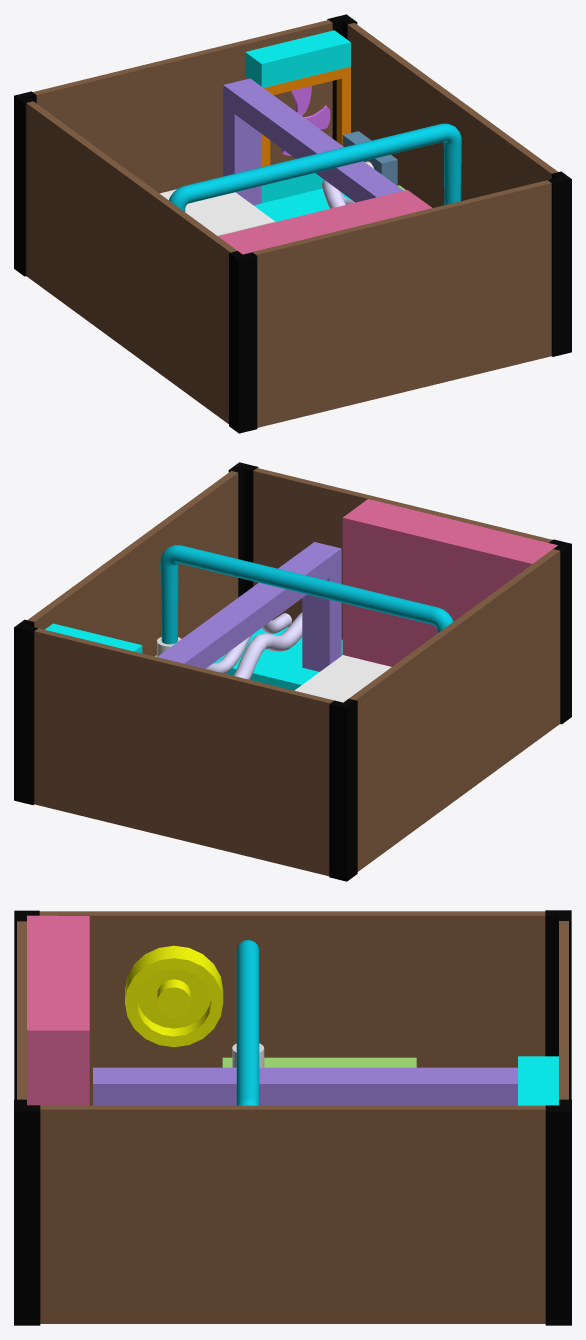
The model's file is hollystudio.fbx.
The picture shows the model from 3 angles, top to bottom: view 1: azimuth 30°, elevation 25°; view 2: azimuth 150°, elevation 25°; view 3: azimuth 270°, elevation 25°; orthographic projection. The views are drawn at different scales.
Visible parts, largest first — view 1: wall_pZ, wall_nX, wall_nZ, wall_pX, motherboard, FanPanel, CoolingTube, CPU_floor, Wires2, CoolerFan; view 2: wall_nZ, wall_nX, wall_pZ, wall_pX, motherboard, CoolingTube, Wires2, CPU_floor, FanPanel; view 3: wall_pX, wall_nX, motherboard, wall_pZ, LED_Light_Fan, CoolingTube, FanPanel, TubesBase, wall_nZ.
Part boxes in pixels (x1,y1,x2,y2): wall_pZ: [218, 180, 551, 427]; wall_nX: [14, 91, 257, 433]; wall_nZ: [33, 20, 332, 193]; wall_pX: [327, 14, 571, 356]; motherboard: [223, 78, 403, 221]; FanPanel: [245, 30, 350, 203]; CoolingTube: [169, 123, 461, 211]; CPU_floor: [159, 189, 275, 235]; Wires2: [321, 131, 397, 208]; CoolerFan: [282, 86, 330, 155]; wall_nZ: [34, 628, 334, 876]; wall_nX: [329, 539, 571, 881]; wall_pZ: [253, 468, 557, 666]; wall_pX: [14, 462, 258, 804]; motherboard: [157, 542, 342, 690]; CoolingTube: [157, 545, 453, 656]; Wires2: [206, 612, 302, 679]; CPU_floor: [295, 655, 391, 702]; FanPanel: [45, 623, 142, 653]; wall_pX: [14, 1099, 571, 1325]; wall_nX: [14, 910, 571, 1105]; motherboard: [93, 1067, 517, 1105]; wall_pZ: [17, 915, 89, 1105]; LED_Light_Fan: [125, 945, 223, 1047]; CoolingTube: [232, 940, 264, 1105]; FanPanel: [518, 1056, 558, 1105]; TubesBase: [222, 1057, 416, 1067]; wall_nZ: [559, 921, 568, 1099].
Size of the model in its own units: 46.99 by 23.39 by 55.12.
